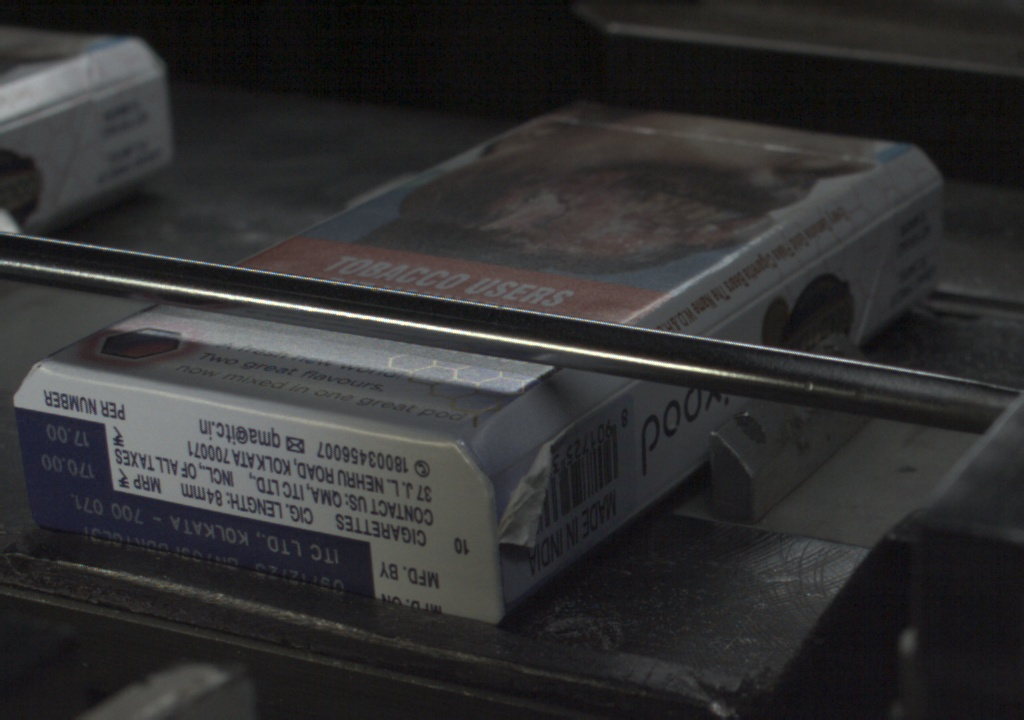g_bottom: (12, 359, 483, 625)
g_label: (20, 487, 377, 594)
g_lmiter: (711, 266, 807, 333), (807, 213, 891, 265), (567, 382, 635, 431)
g_miter: (894, 176, 941, 212)
ng_lmiter: (496, 441, 555, 552)
price: (18, 417, 111, 484)
